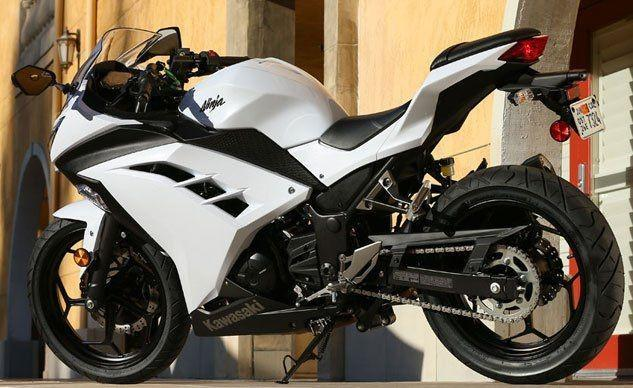MotorCycle: (17, 22, 628, 388)
